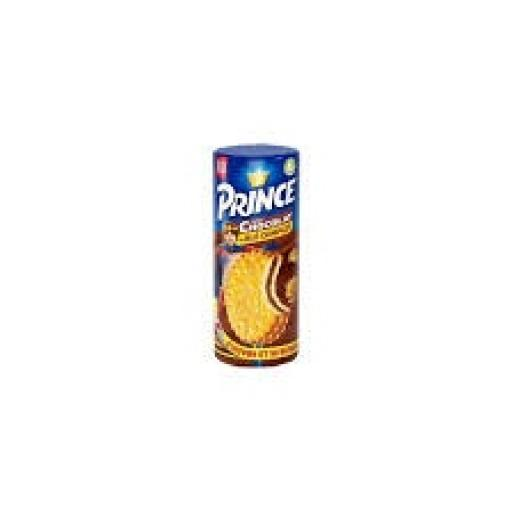prince: (154, 108, 389, 418)
